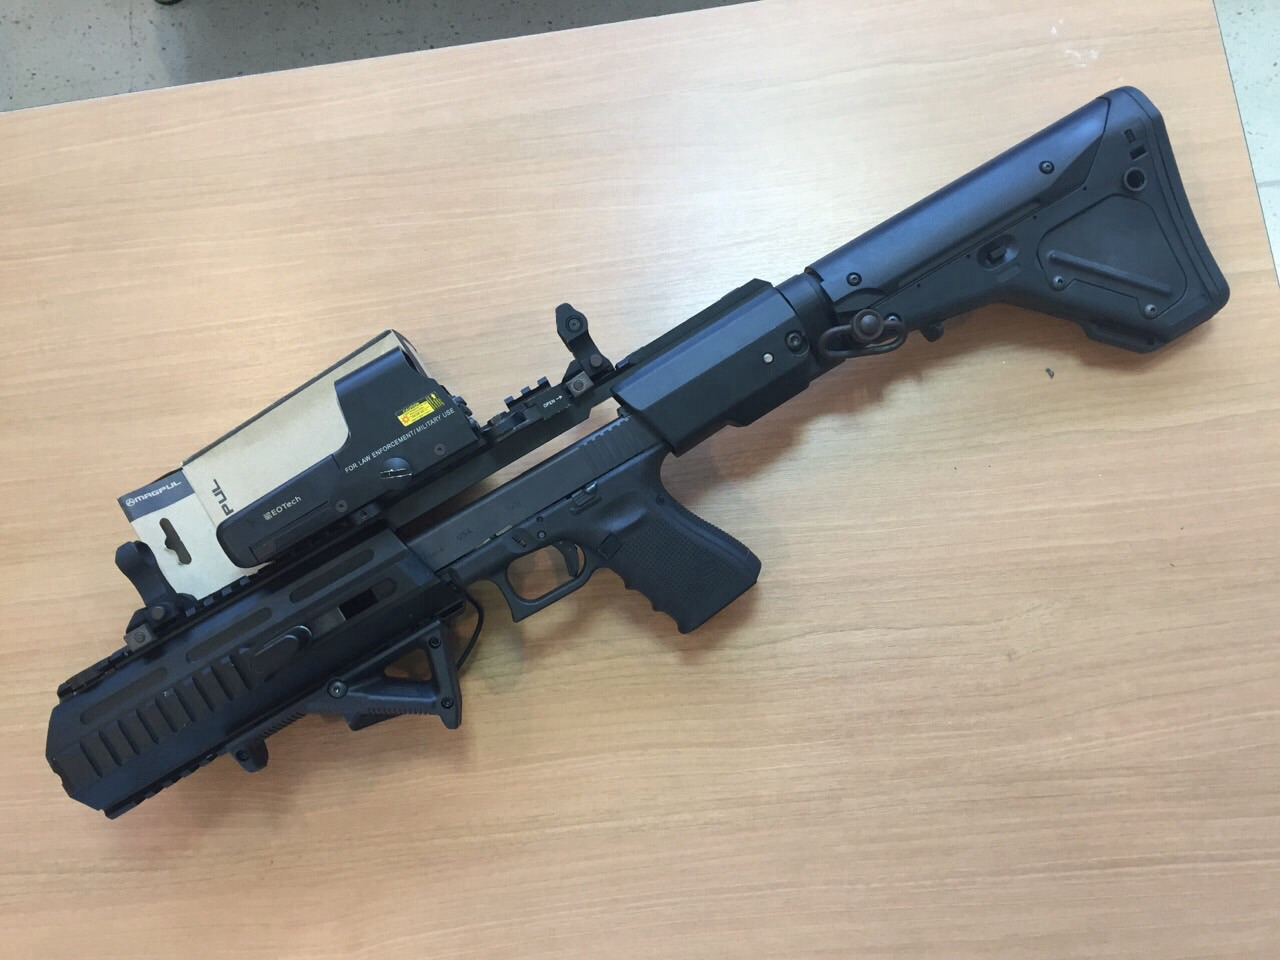gun: (27, 74, 1252, 843)
